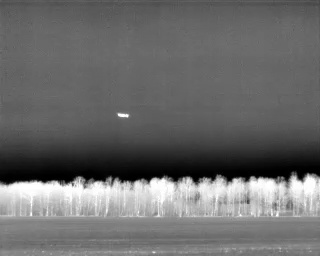DRONE: (113, 108, 134, 123)
